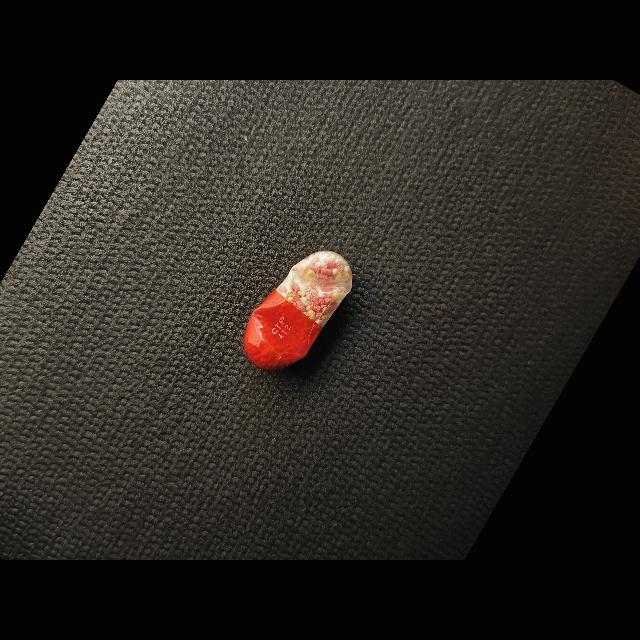Defective Capsule: (244, 250, 352, 370)
